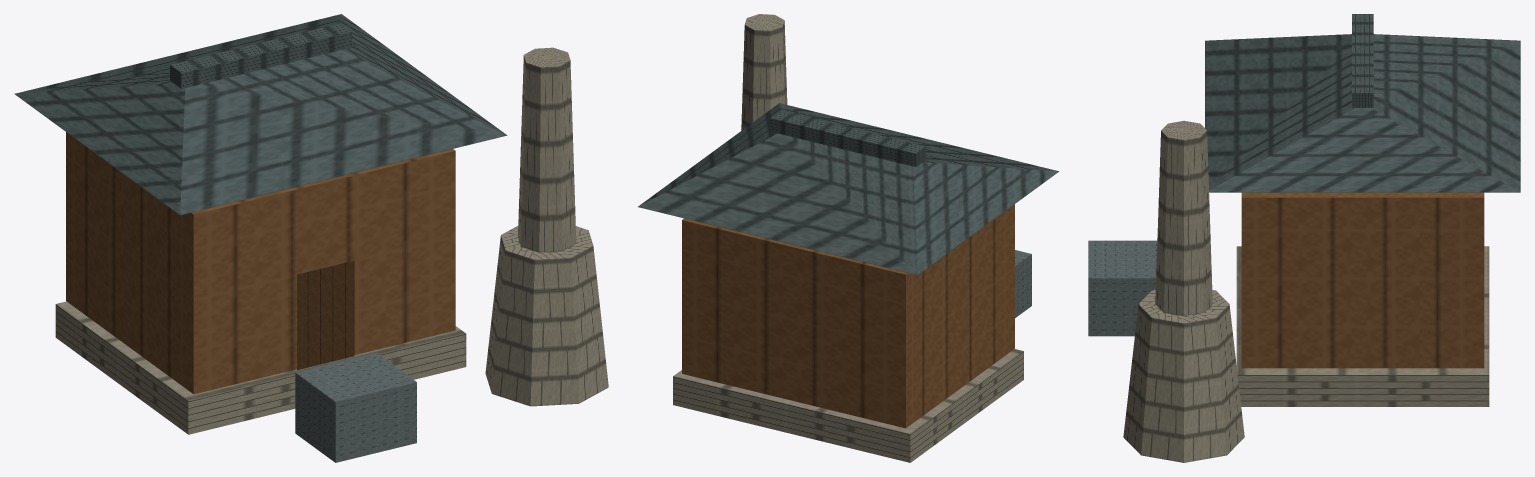
Rendered from domestic-SMITH-1-lod2.glb.
3 renders of one model, left to right at view 1: azimuth 30°, elevation 25°; view 2: azimuth 150°, elevation 25°; view 3: azimuth 270°, elevation 25°, orthographic. The views are drawn at different scales.
Size of the model in its own units: 0.7063 by 0.53 by 0.677.
Materials: 1 (1 with a texture image).
